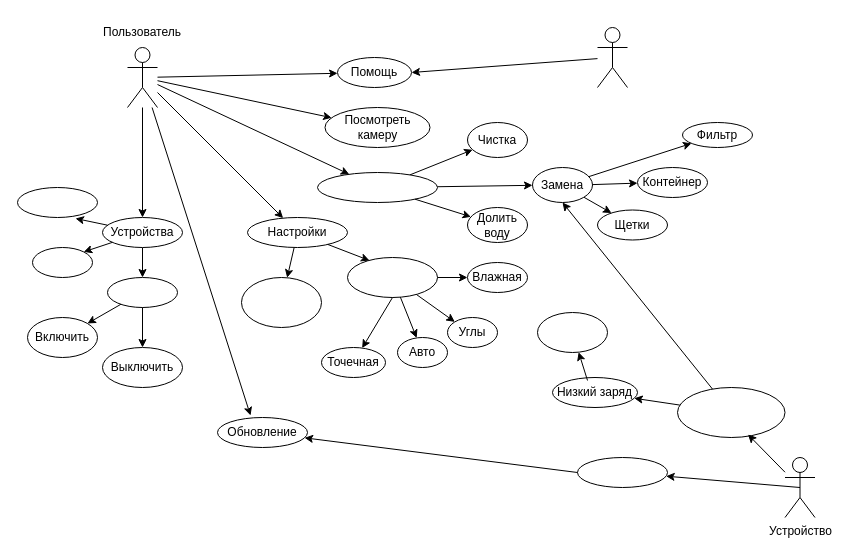
The diagram is 849 pixels wide and 555 high, and some of its shapes have lost their labels. The box of each missing label's shape, as (x1, y1, x2, y2) in pixels:
Добавить: (16, 186, 98, 218)
Ехать на базу: (536, 312, 608, 352)
Обслуживание: (316, 172, 438, 202)
Предупреждение: (676, 386, 785, 438)
Проверка: (576, 456, 668, 488)
Просмотр: (106, 276, 178, 308)
Расписание: (240, 276, 322, 328)
Режим уборки: (346, 256, 438, 298)
Техподдержка: (596, 26, 628, 88)
Удалить: (32, 246, 92, 278)
